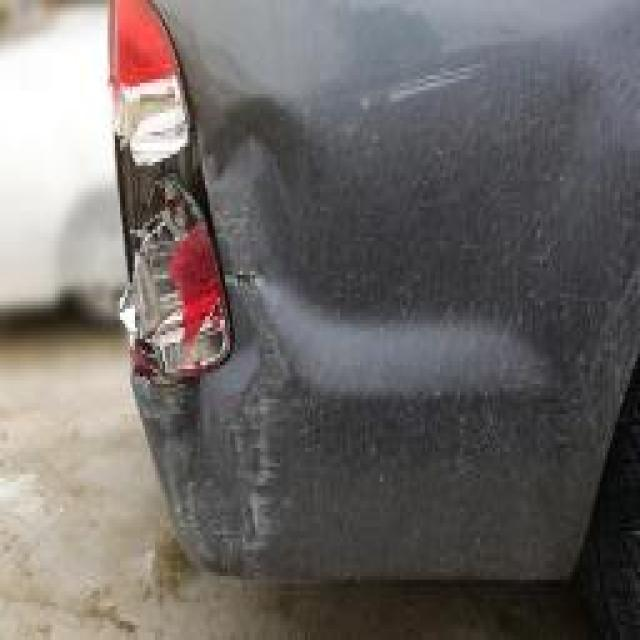Bumper: (198, 11, 612, 602)
Light: (100, 4, 228, 376)
